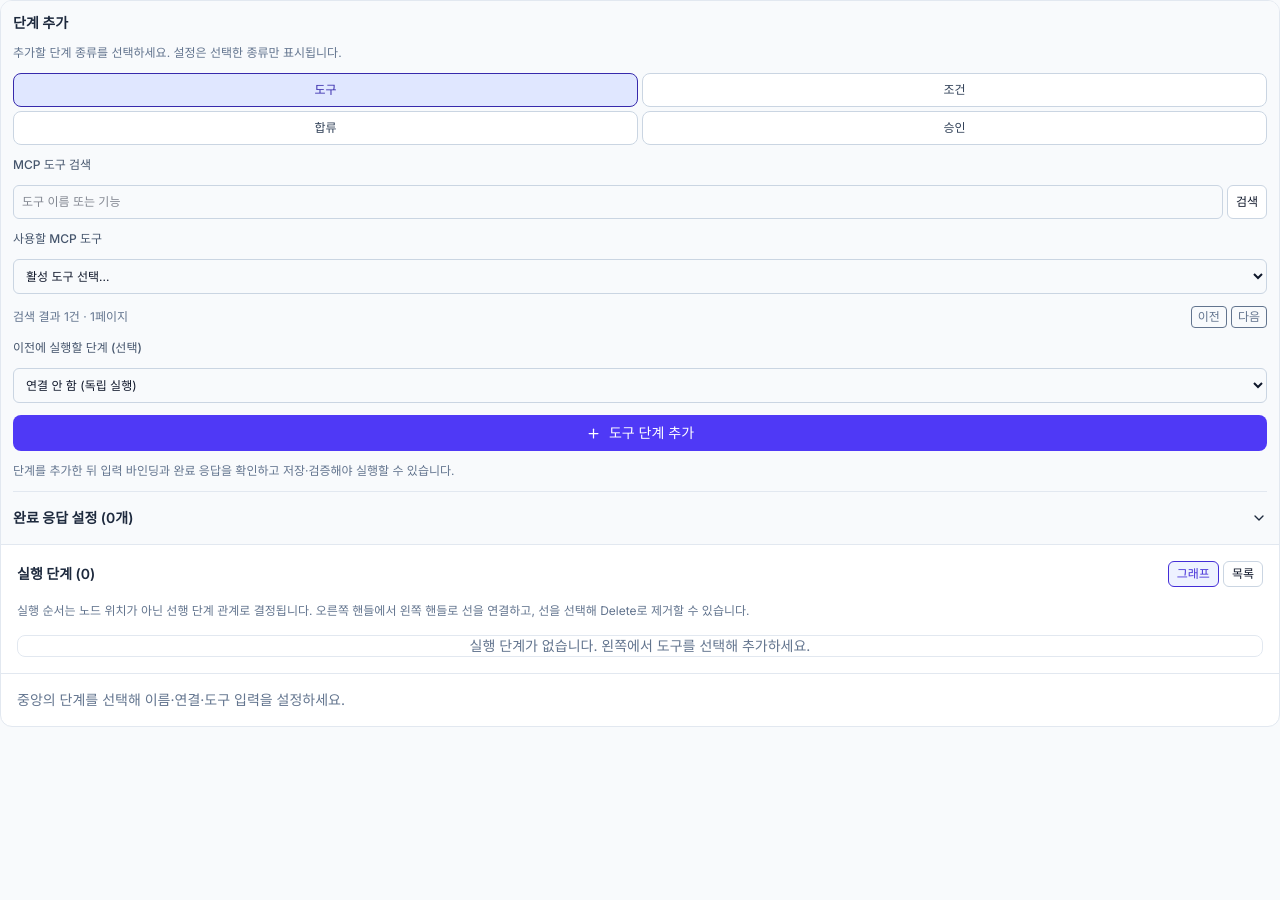
Test: Canonical visual workflow editor › shows one step-creation section at a time and preserves unfinished selections
Expected: the field labelled "새 조건의 판단 대상" is not shown
Expected: the button "합류 단계 추가" is not shown
Select "날씨 확인 · get_weather" in the dropdown labelled "사용할 MCP 도구" at (640, 276), box [13,259,1267,294]
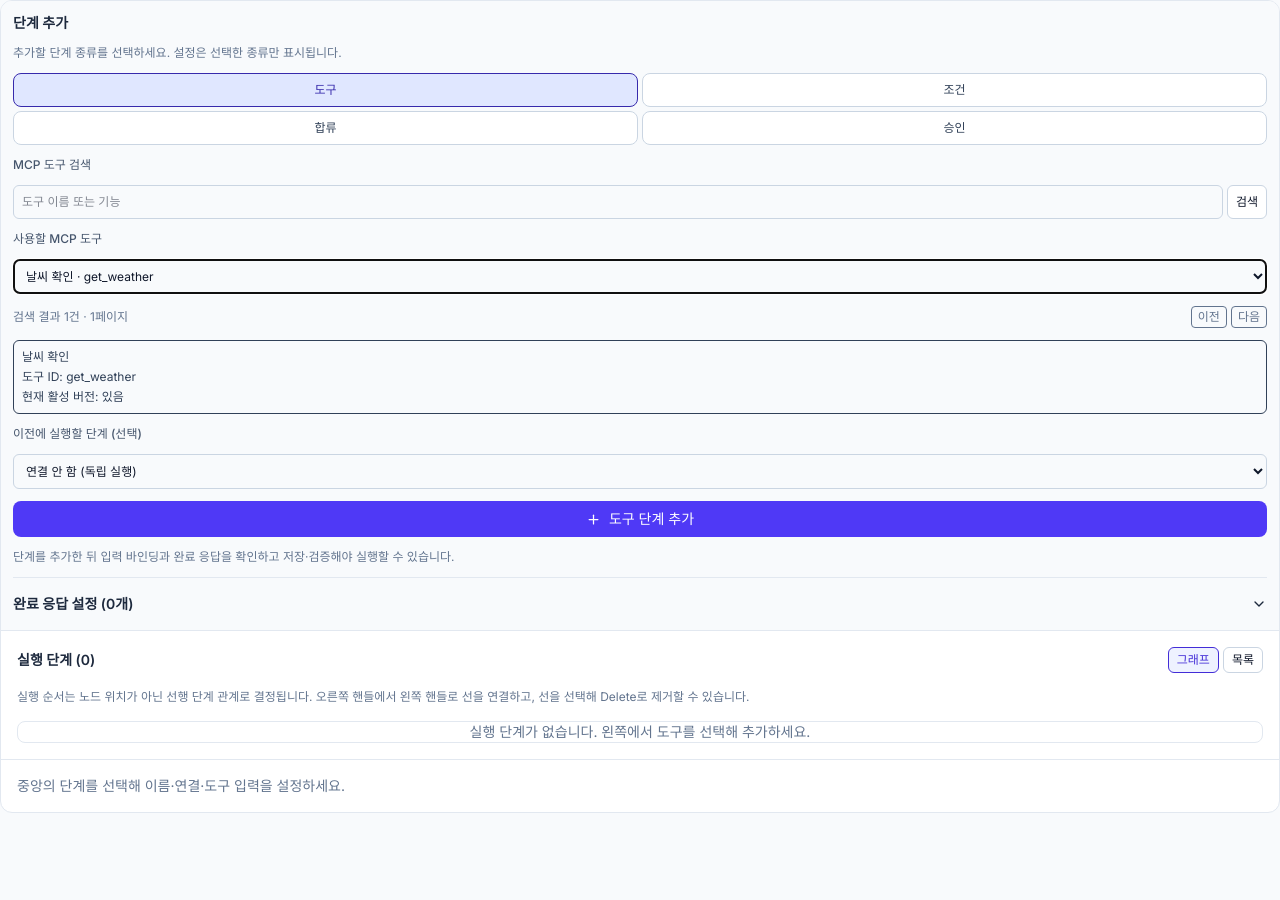
Click the button "조건" at (954, 90), box [642,73,1267,107]
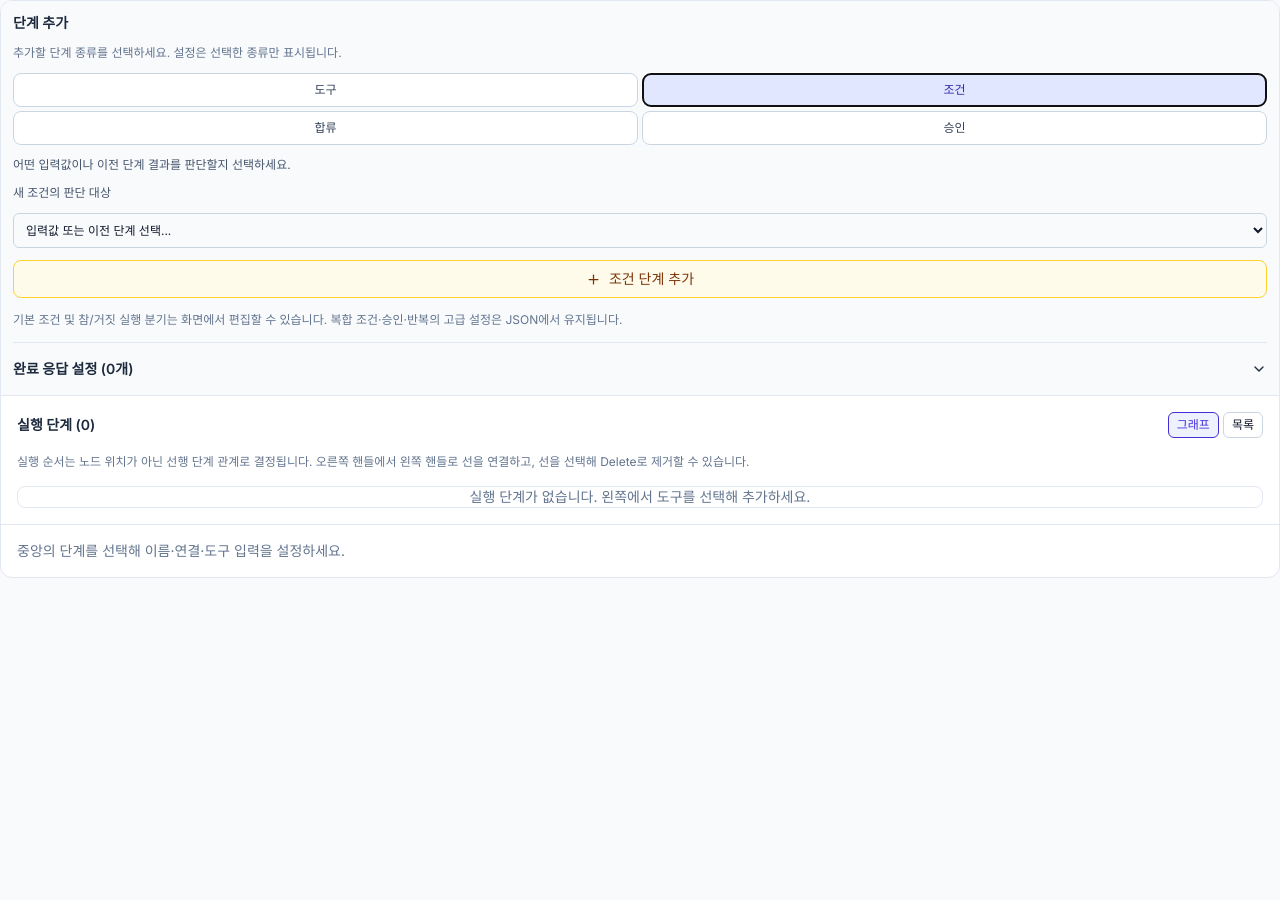
Expected: the button "조건" is pressed, [642,73,1267,107]
Select "실행 입력: topic" in the dropdown labelled "새 조건의 판단 대상" at (640, 230), box [13,213,1267,248]
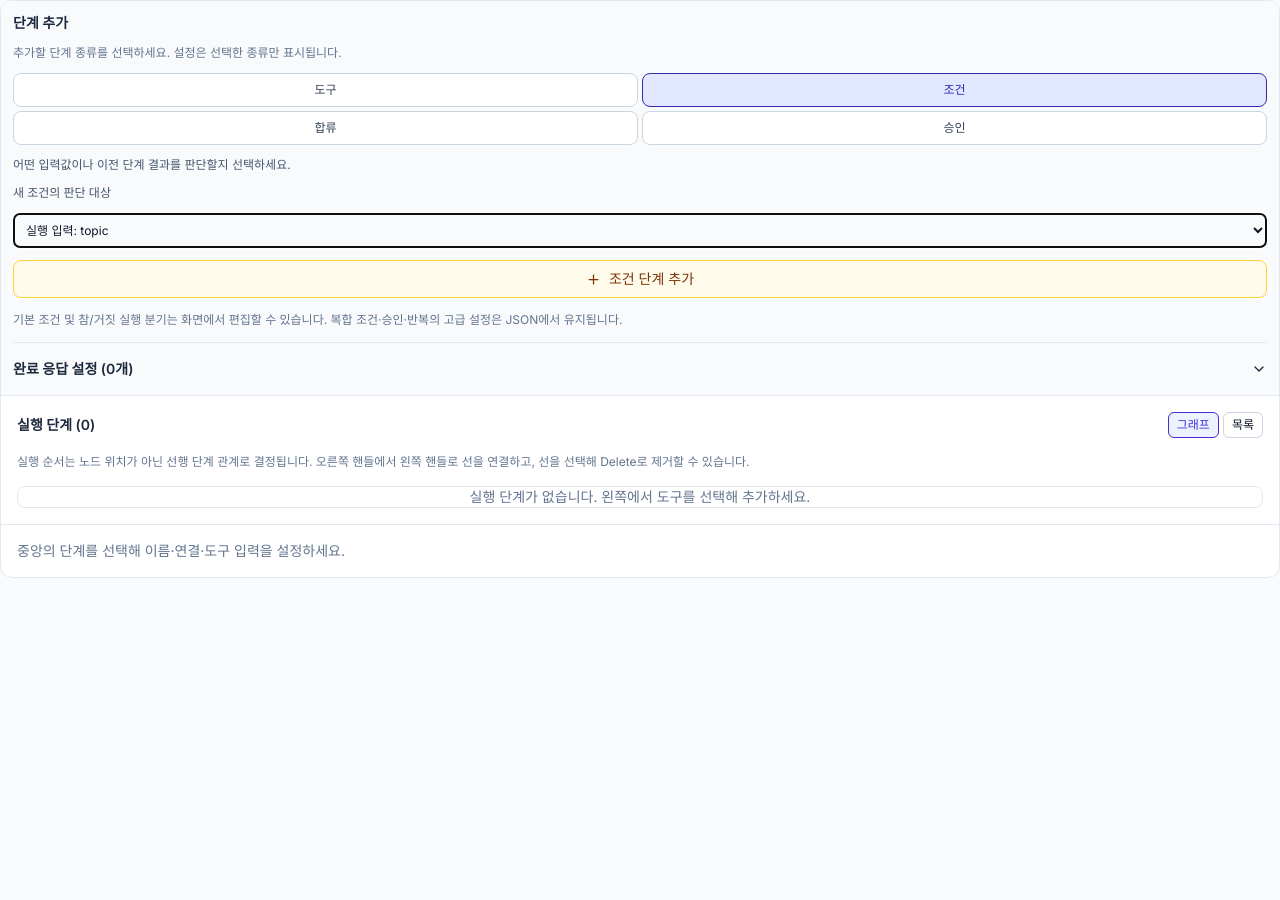
Click the button "합류" at (326, 128), box [13,111,638,145]
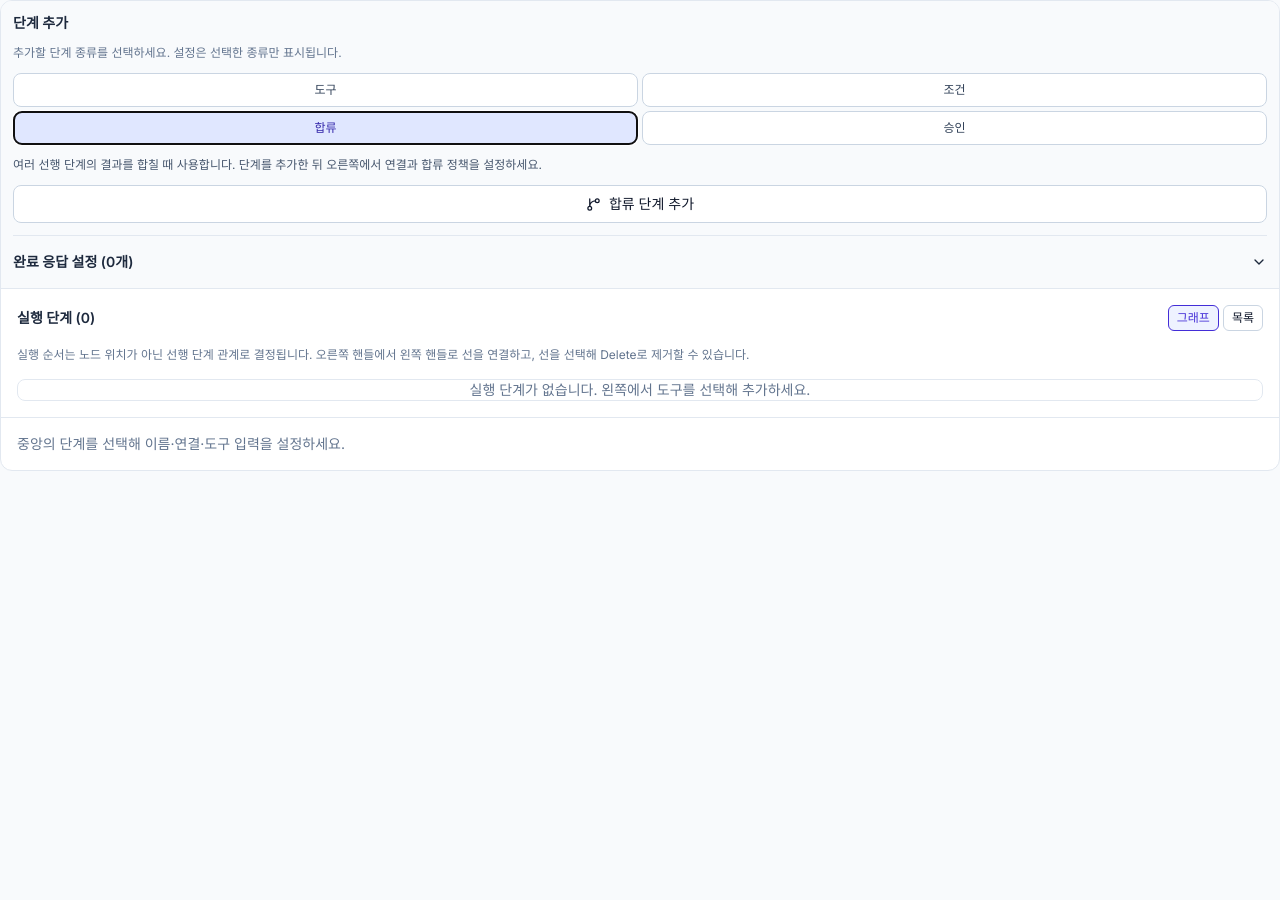
Expected: the button "합류 단계 추가" is disabled, [13,185,1267,223]
Click the button "조건" at (954, 90), box [642,73,1267,107]
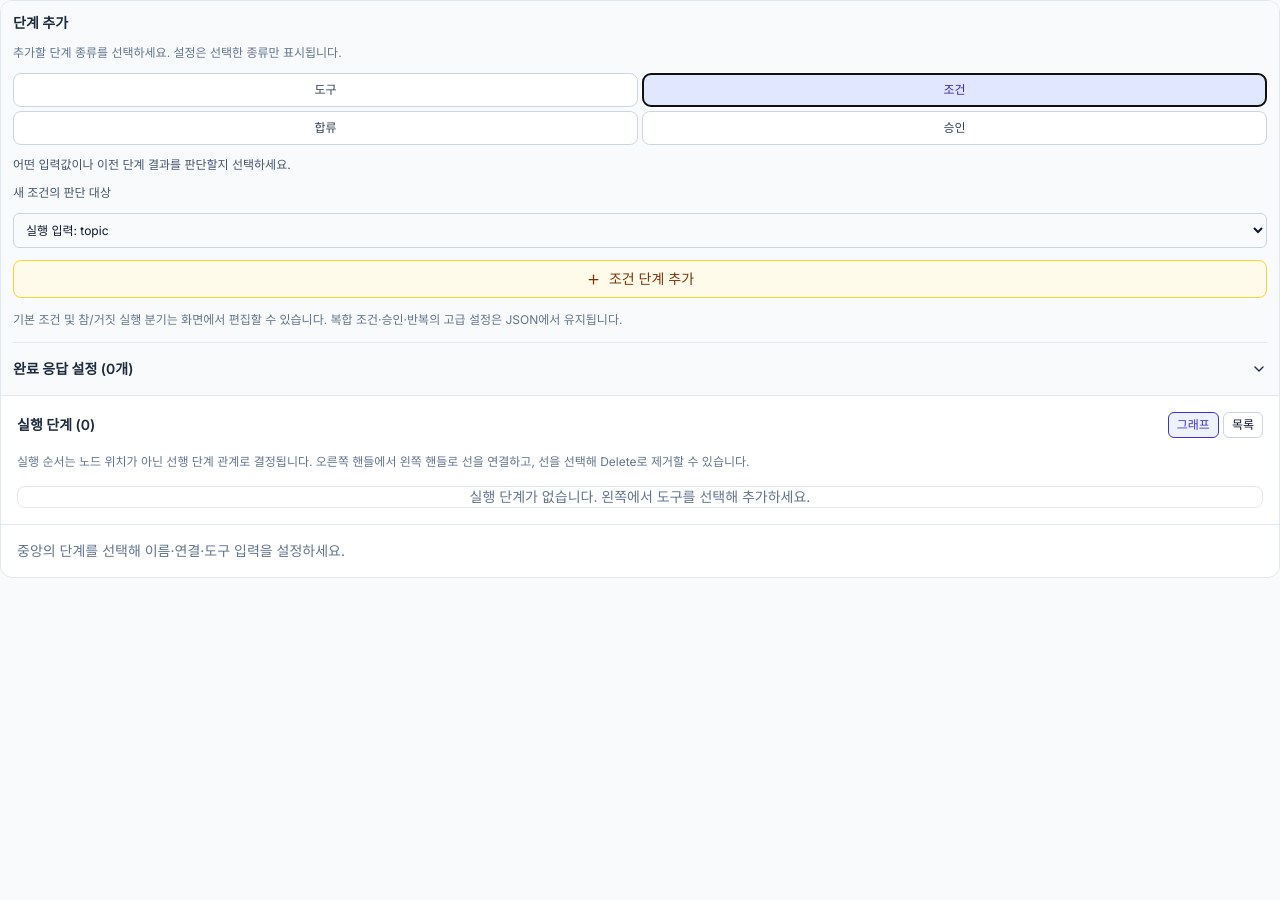
Expected: the dropdown labelled "새 조건의 판단 대상" shows "실행 입력: topic", [13,213,1267,248]
Click the button "도구" at (326, 90), box [13,73,638,107]
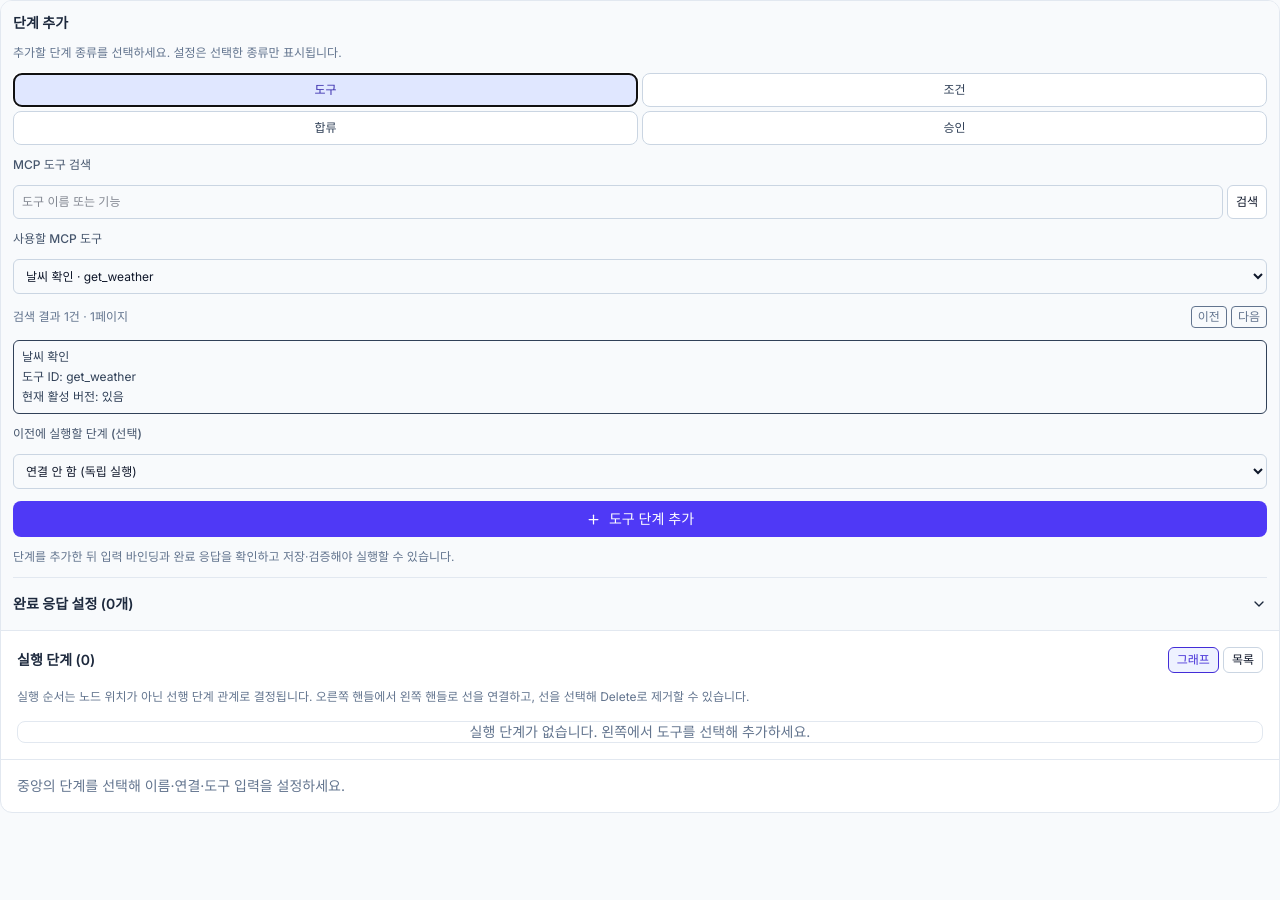
Expected: the dropdown labelled "사용할 MCP 도구" shows "날씨 확인 · get_weather", [13,259,1267,294]
